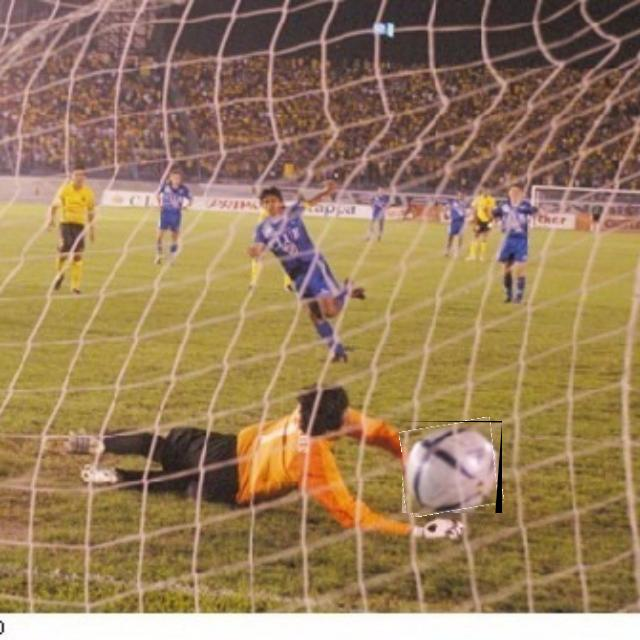Football: (402, 421, 502, 513)
